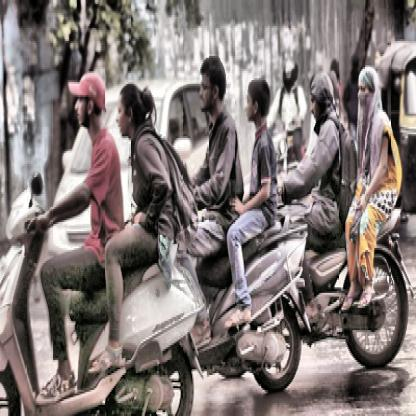not_wear: (116, 84, 146, 140), (244, 78, 271, 128), (78, 76, 102, 129), (198, 61, 221, 116), (308, 80, 331, 124), (356, 66, 376, 107)
